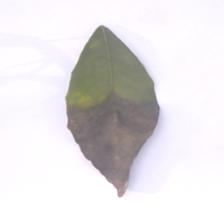black spot: (53, 89, 163, 205)
